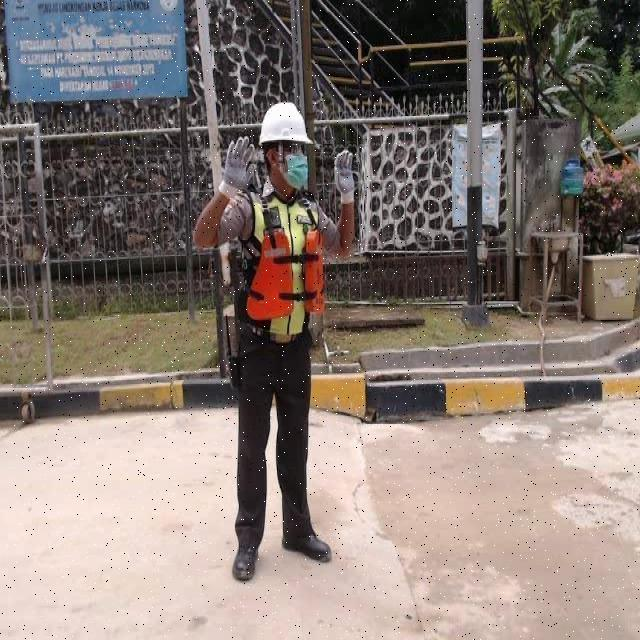Hard_hat: (256, 104, 318, 153)
Person: (194, 95, 328, 584)
Vest: (245, 195, 322, 344)
